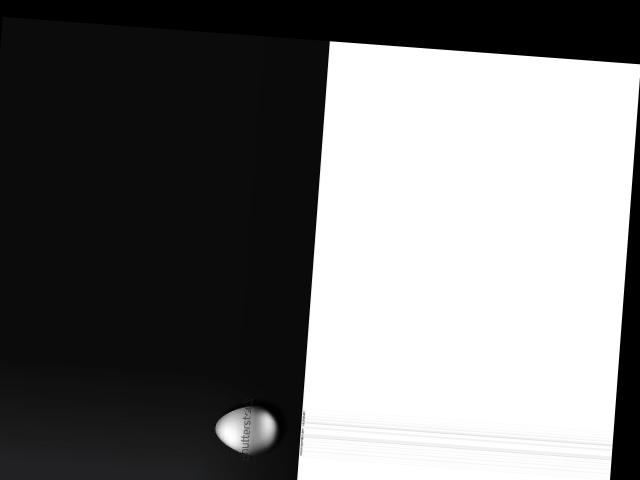egg: (212, 402, 280, 456)
